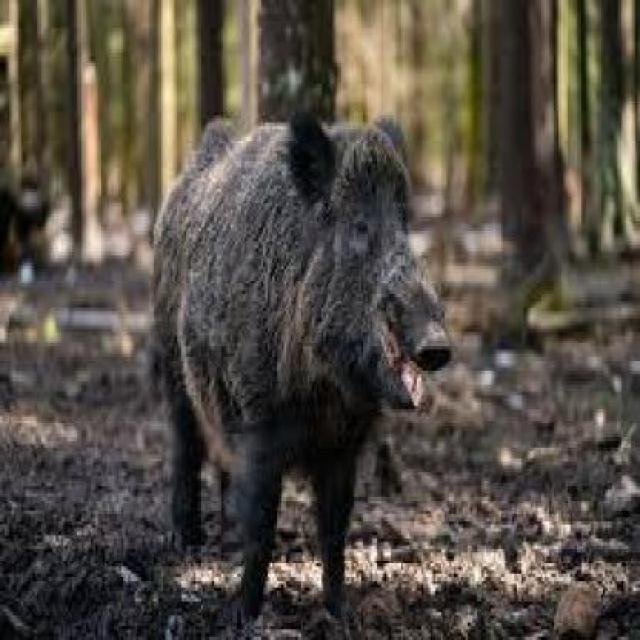wildboar: (145, 95, 460, 631)
